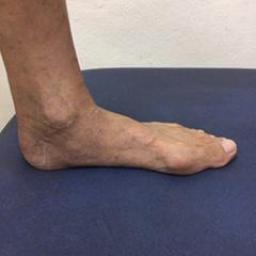Medial View -Left Foot-: (4, 83, 240, 185)
